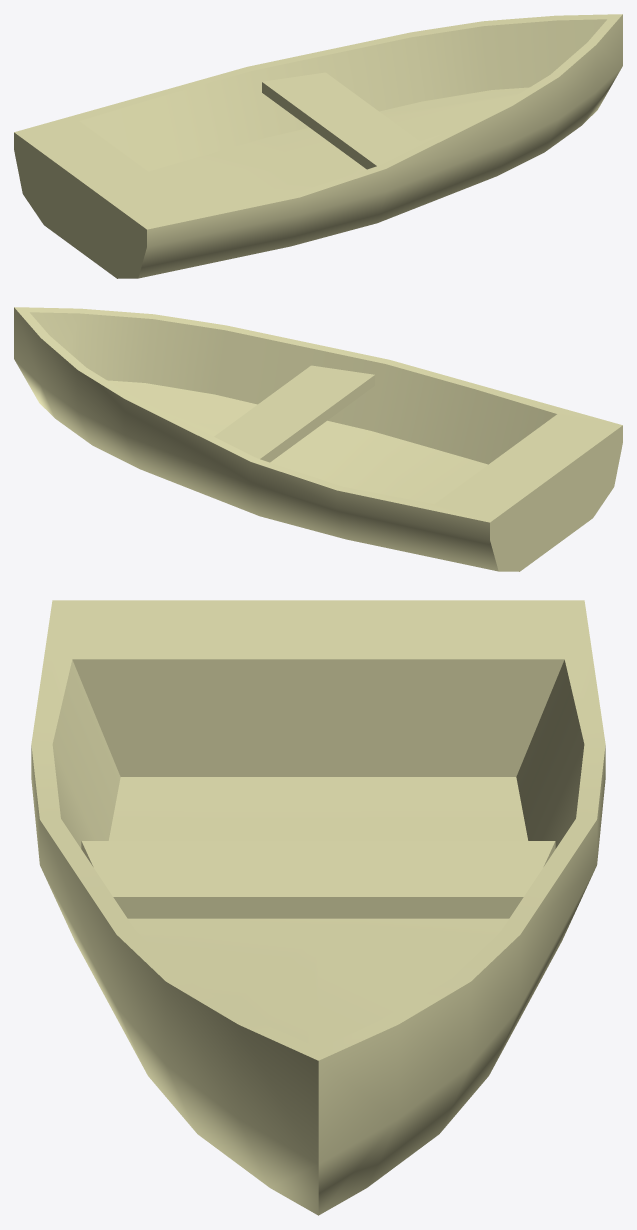
File: Boat.fbx
The picture shows the model from 3 angles, top to bottom: view 1: azimuth 30°, elevation 25°; view 2: azimuth 150°, elevation 25°; view 3: azimuth 270°, elevation 25°; orthographic projection. The views are drawn at different scales.
Visible parts, largest first — view 1: Boat; view 2: Boat; view 3: Boat.
Boxes of the visible parts, left/top/right/bottom form: Boat: left=14, top=14, right=622, bottom=278; Boat: left=14, top=307, right=622, bottom=571; Boat: left=31, top=600, right=605, bottom=1215.
Size of the model in its own units: 244 by 112 by 45.3.
